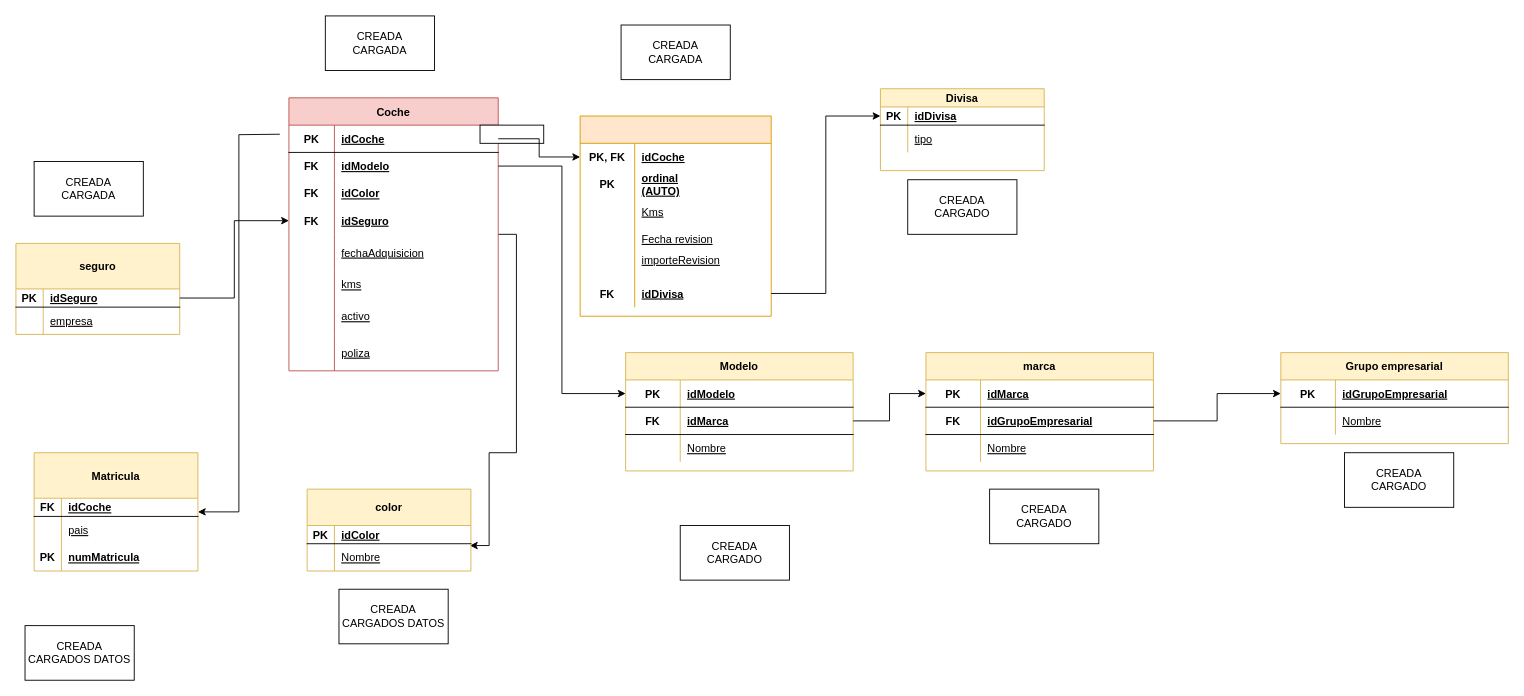
The diagram is 1524 pixels wide and 696 high, and some of its shapes have lost their labels. Here are the shapes that lost their labels. From the top down, the box of each, then its label:
(479, 124, 544, 143): 1 a N
(579, 115, 771, 316): historicoCoche
